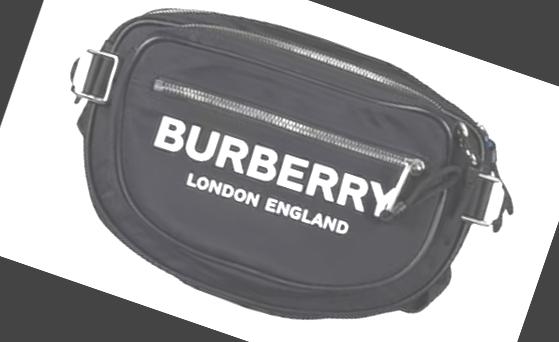BURBERRY: (152, 109, 397, 225)
